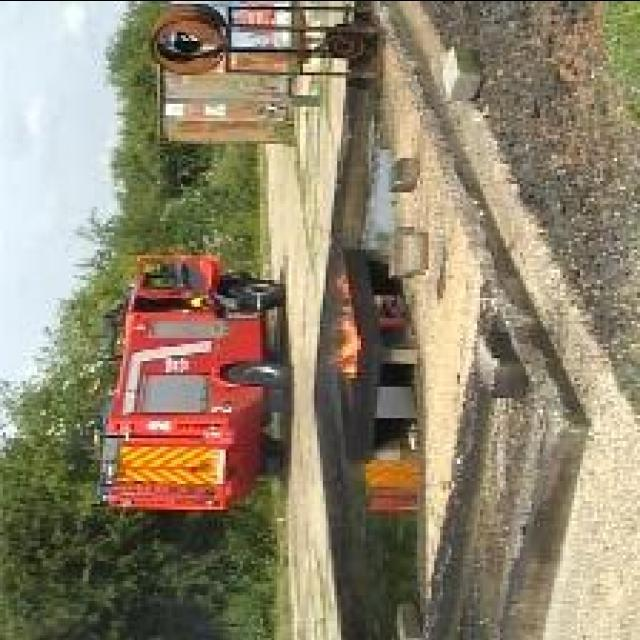Fire: (331, 266, 358, 378)
